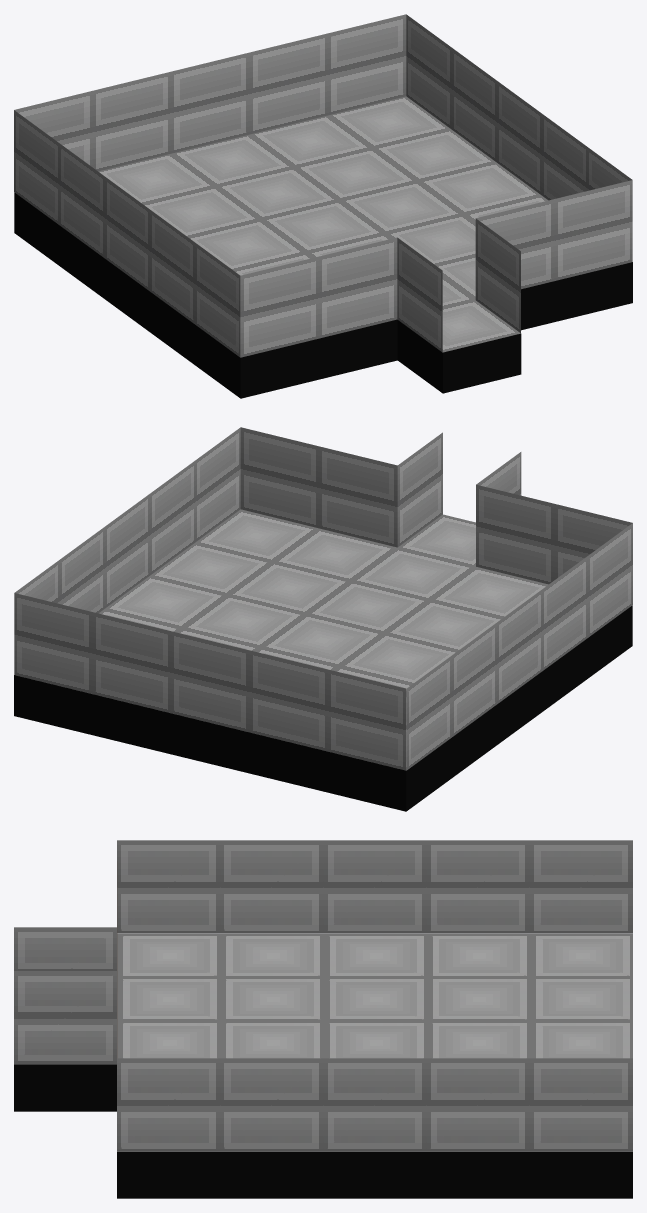
The model's file is BigRoomDeadEnd.gltf.
3 views of the same model, one above another, from view 1: azimuth 30°, elevation 25°; view 2: azimuth 150°, elevation 25°; view 3: azimuth 270°, elevation 25° (orthographic). The views are drawn at different scales.
Parts seen in each view (by area): view 1: BigRoomDeadEnd; view 2: BigRoomDeadEnd; view 3: BigRoomDeadEnd.
Part boxes in pixels (box(x1,y1,x2,y2)): BigRoomDeadEnd: box(14, 14, 632, 398); BigRoomDeadEnd: box(14, 427, 632, 811); BigRoomDeadEnd: box(14, 840, 632, 1198).
Bounding box in the file's own units: 10.01 × 3 × 12.
Materials: 2 (1 with a texture image).
